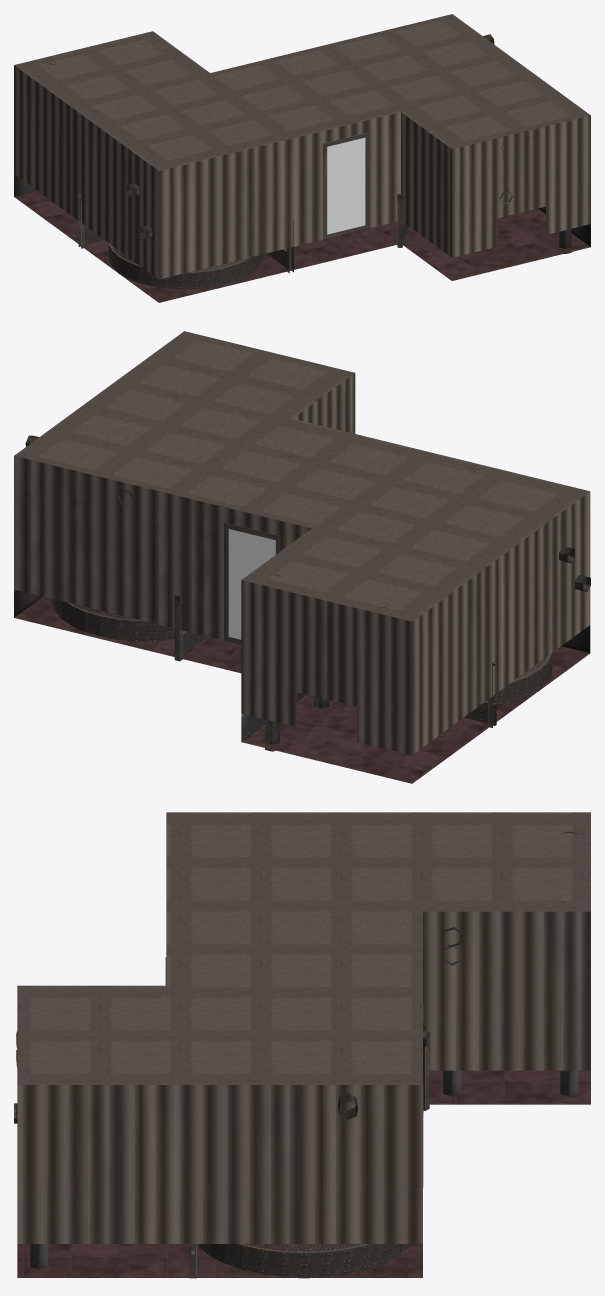
Rendered from molten_s_room.fbx.
3 renders of one model, top to bottom at view 1: azimuth 30°, elevation 25°; view 2: azimuth 150°, elevation 25°; view 3: azimuth 270°, elevation 25°, orthographic. The views are drawn at different scales.
Parts seen in each view (by area): view 1: Wall, Ceiling, Floor, Fences, Pipes; view 2: Wall, Ceiling, Floor, Fences, Pipes; view 3: Ceiling, Wall, Floor, Fences, Pipes.
Boxes of the visible parts, x1,y1,x2,y2 form: Wall: [14, 65, 590, 279]; Ceiling: [14, 14, 590, 170]; Floor: [14, 191, 590, 302]; Fences: [78, 193, 409, 289]; Pipes: [49, 34, 571, 254]; Wall: [14, 373, 590, 754]; Ceiling: [14, 331, 589, 621]; Floor: [14, 596, 589, 783]; Fences: [52, 595, 552, 727]; Pipes: [25, 412, 590, 751]; Ceiling: [17, 812, 590, 1084]; Wall: [17, 911, 590, 1243]; Floor: [17, 1070, 590, 1277]; Fences: [189, 1031, 429, 1278]; Pipes: [14, 831, 578, 1269].
Size of what is drawn, in the model's own units: 3605 by 1185 by 3063.
